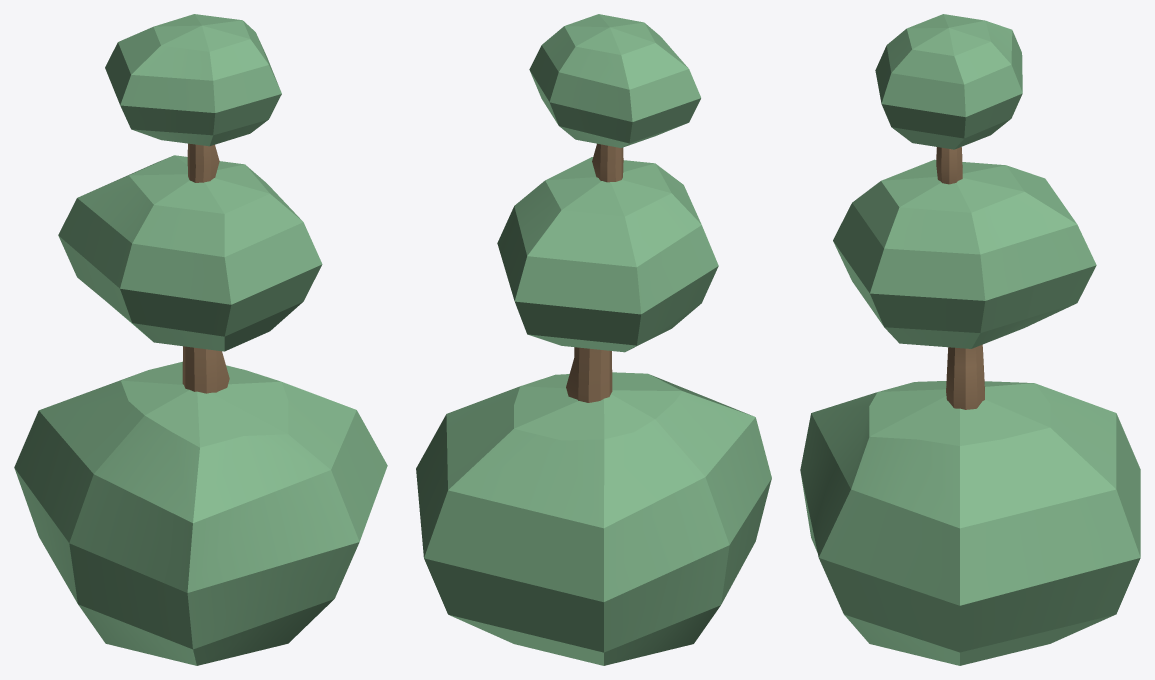
The model's file is bush01.fbx.
3 renders of one model, left to right at view 1: azimuth 30°, elevation 25°; view 2: azimuth 150°, elevation 25°; view 3: azimuth 270°, elevation 25°, orthographic.
Visible parts, largest first — view 1: pSphere15; view 2: pSphere15; view 3: pSphere15.
Part boxes in pixels (x1,y1,x2,y2): pSphere15: (14, 14, 387, 665); pSphere15: (416, 14, 771, 665); pSphere15: (800, 14, 1140, 665).
Size of the model in its own units: 3.51 by 6.33 by 3.29.
